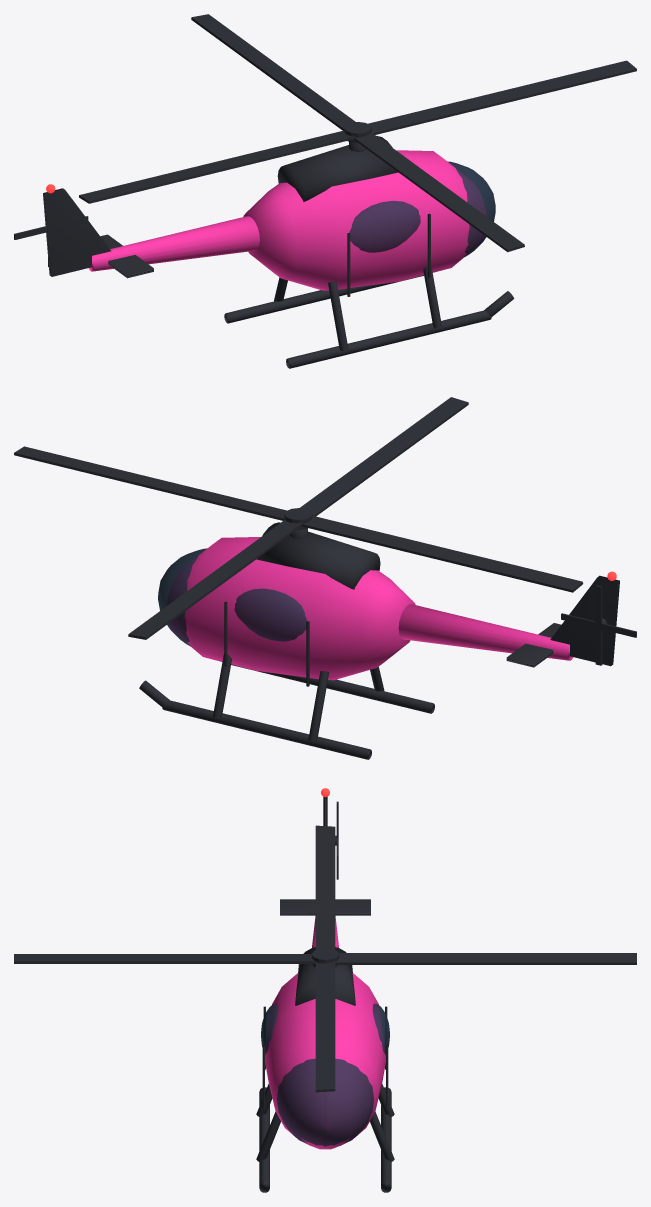
File: heli.glb
The picture shows the model from 3 angles, top to bottom: view 1: azimuth 30°, elevation 25°; view 2: azimuth 150°, elevation 25°; view 3: azimuth 270°, elevation 25°; orthographic projection. The views are drawn at different scales.
Parts seen in each view (by area): view 1: body, rotor; view 2: body, rotor, tailrotor; view 3: body, rotor.
Boxes of the visible parts, x1=… form: body: x1=43, y1=136, x2=514, y2=368; rotor: x1=79, y1=14, x2=636, y2=252; body: x1=139, y1=522, x2=619, y2=759; rotor: x1=14, y1=397, x2=583, y2=639; tailrotor: x1=561, y1=585, x2=636, y2=665; body: x1=256, y1=788, x2=394, y2=1192; rotor: x1=14, y1=825, x2=636, y2=1092.
Size of the model in its own units: 91.5 by 30.26 by 82.
